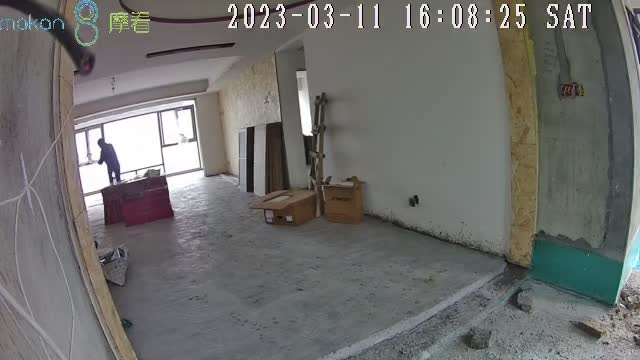people: (96, 137, 121, 185)
window: (73, 104, 203, 195)
